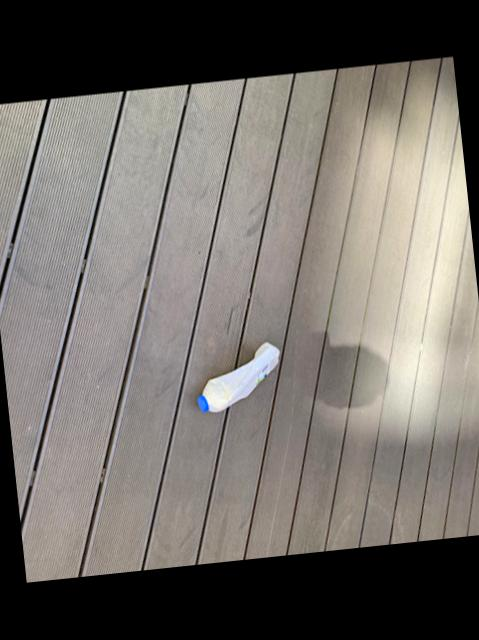plastic: (198, 341, 280, 411)
